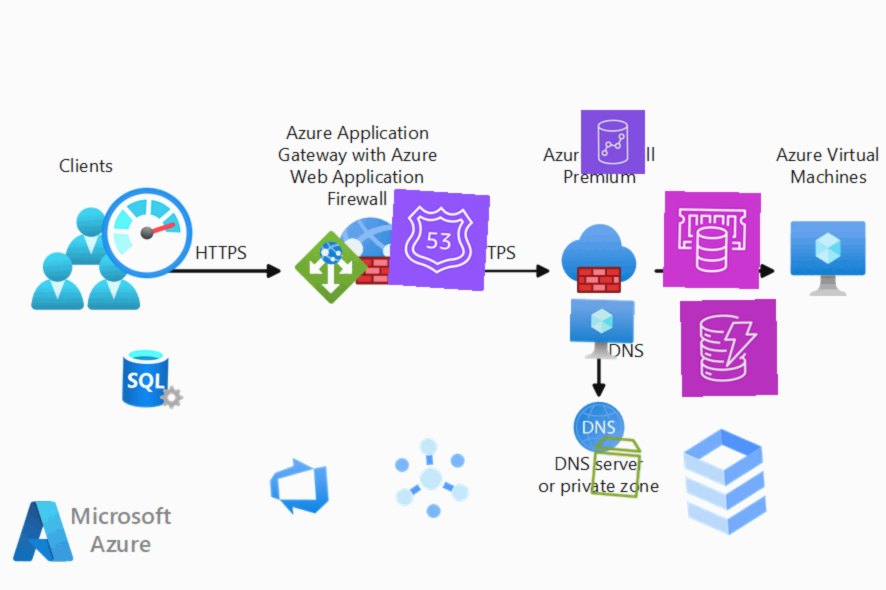aws_amazon_dynamodb: (680, 299, 778, 397)
aws_amazon_elasticache: (662, 190, 760, 288)
aws_amazon_redshift: (580, 108, 646, 175)
aws_amazon_route_53: (386, 188, 491, 291)
aws_elastic_block_store_volume: (581, 431, 651, 502)
azure_devops: (263, 451, 334, 521)
azure_monitor: (96, 181, 197, 284)
azure_sql_server: (120, 345, 186, 410)
azure_virtual_machine: (569, 298, 635, 363)
gcp_cloud_sql: (656, 412, 793, 551)
gcp_pubsub: (379, 426, 482, 529)
